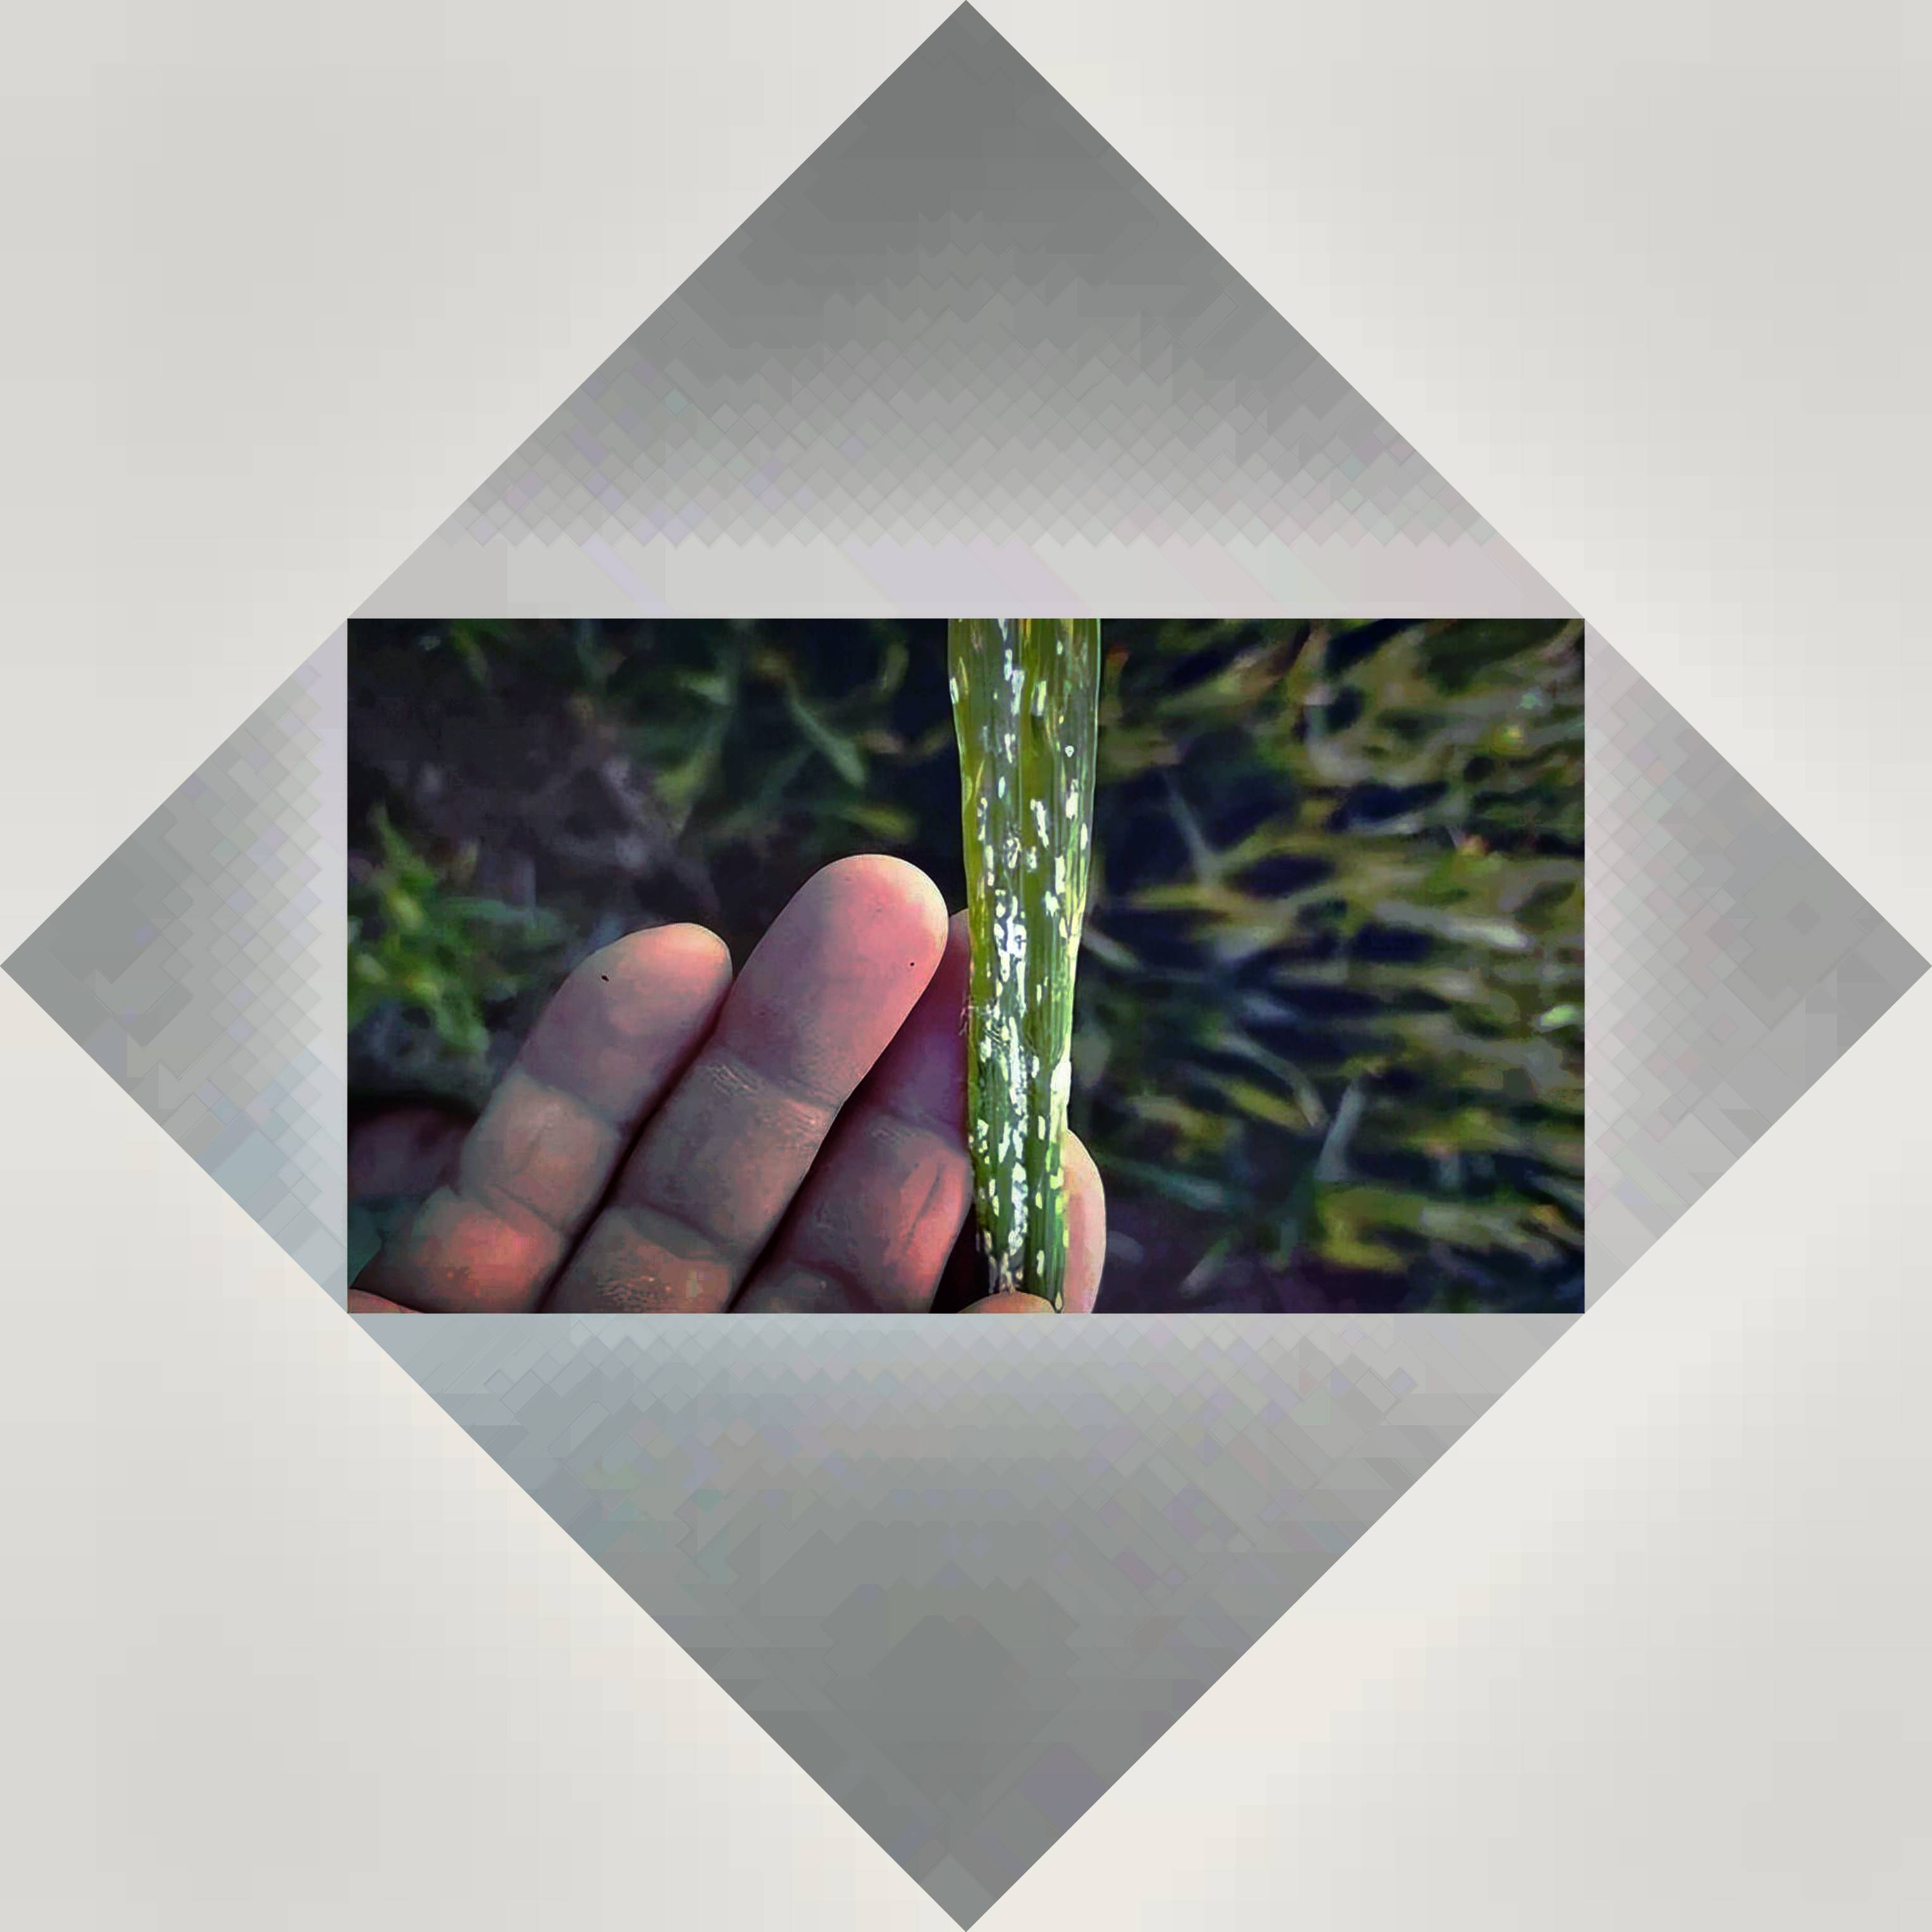Powdery Mildew: (939, 635, 1113, 1276)
